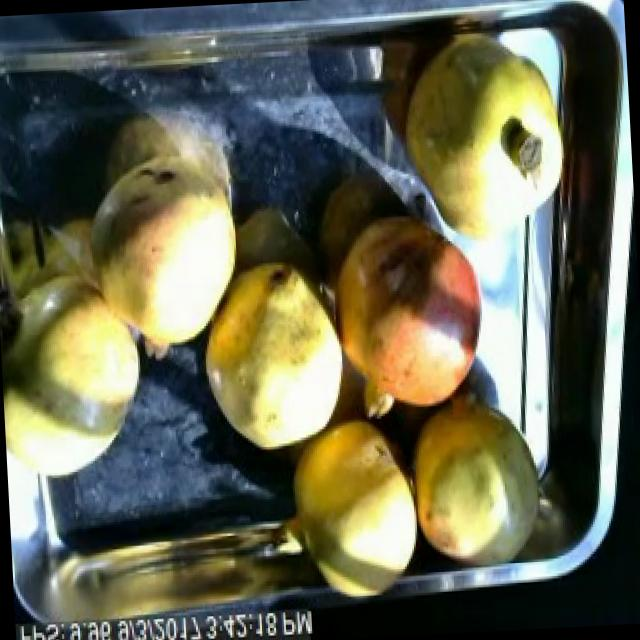fruit: (72, 128, 264, 374), (387, 23, 579, 258), (312, 192, 499, 432), (0, 247, 162, 495), (186, 239, 365, 463), (402, 372, 564, 576), (273, 404, 425, 608)
